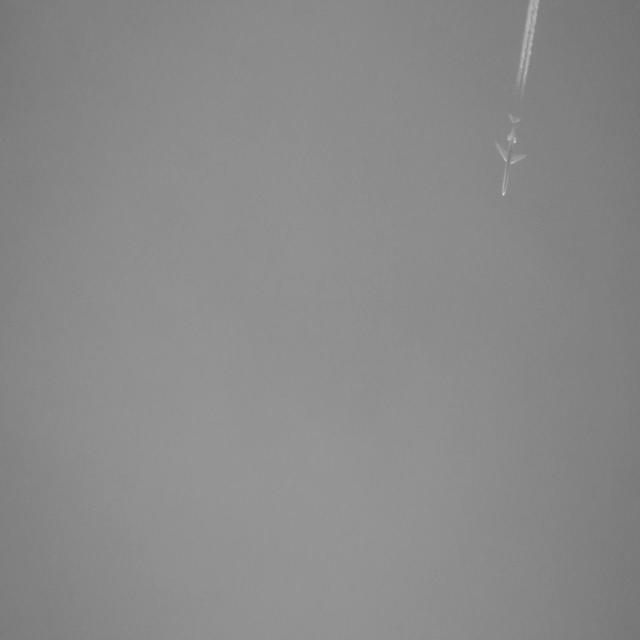aeroplane: (491, 111, 528, 208)
